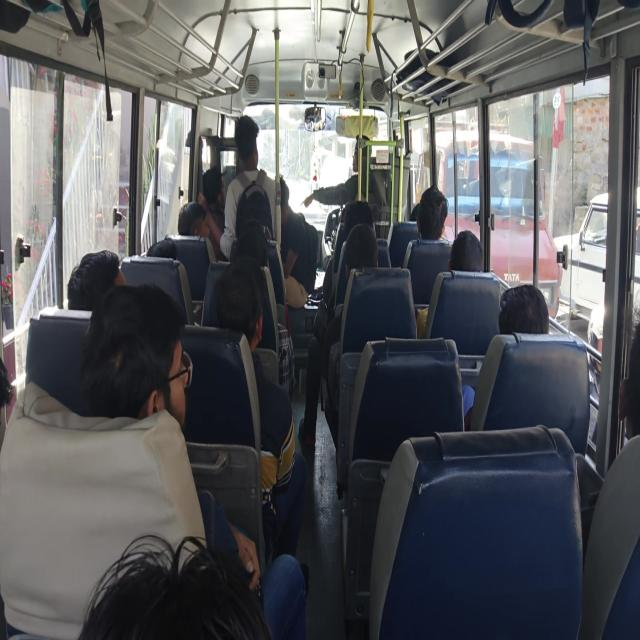person: (94, 519, 386, 640), (91, 286, 216, 440), (592, 314, 640, 436), (279, 160, 310, 338), (490, 296, 558, 364), (207, 254, 258, 336), (80, 260, 140, 324), (233, 118, 268, 186), (351, 226, 387, 285), (228, 222, 272, 270), (179, 191, 218, 245), (197, 160, 230, 216), (150, 232, 179, 289), (415, 192, 444, 246), (449, 232, 481, 280), (343, 203, 375, 235), (246, 209, 267, 239), (408, 204, 426, 221)
